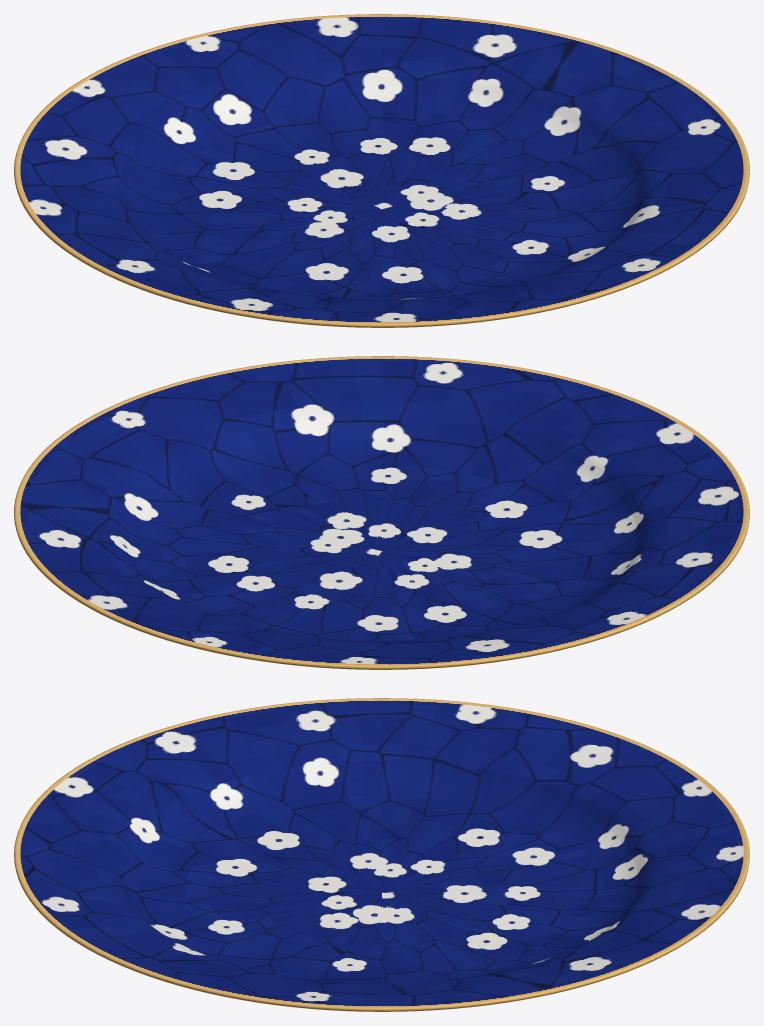
File: prunus-plate.glb
The picture shows the model from 3 angles, top to bottom: view 1: azimuth 30°, elevation 25°; view 2: azimuth 150°, elevation 25°; view 3: azimuth 270°, elevation 25°; orthographic projection.
Parts seen in each view (by area): view 1: prunus-plate; view 2: prunus-plate; view 3: prunus-plate.
Part boxes in pixels (x1,y1,x2,y2): prunus-plate: [14, 14, 749, 327]; prunus-plate: [14, 356, 749, 669]; prunus-plate: [14, 698, 749, 1011].
Size of the model in its own units: 0.2707 by 0.0238 by 0.2707.
1 material, 1 textured.
